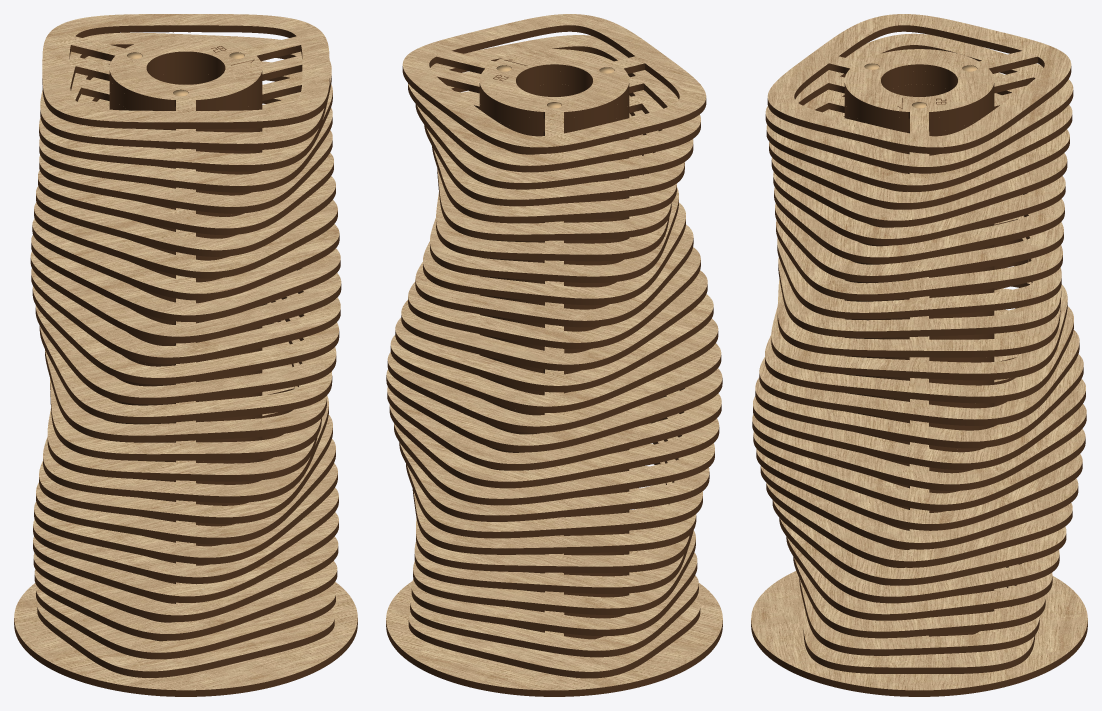
File: morph.glb
3 views of the same model, side by side, from view 1: azimuth 30°, elevation 25°; view 2: azimuth 150°, elevation 25°; view 3: azimuth 270°, elevation 25° (orthographic). The views are drawn at different scales.
Parts seen in each view (by area): view 1: body27, body82, body26, body25, body16, body15, body17, body18, body14, body19, body13, body20 (+19 smaller); view 2: body27, body82, body26, body14, body13, body12, body15, body11, body16, body10, body9, body17 (+19 smaller); view 3: body27, body82, body26, body12, body11, body13, body25, body10, body14, body9, body8, body15 (+19 smaller).
Boxes of the visible parts, x1=… form: body27: x1=42, y1=14, x2=329, y2=128; body82: x1=14, y1=582, x2=357, y2=696; body26: x1=40, y1=32, x2=331, y2=150; body25: x1=39, y1=56, x2=332, y2=171; body16: x1=31, y1=268, x2=340, y2=364; body15: x1=32, y1=286, x2=339, y2=384; body17: x1=30, y1=251, x2=341, y2=343; body18: x1=31, y1=235, x2=340, y2=321; body14: x1=35, y1=298, x2=336, y2=404; body19: x1=32, y1=218, x2=339, y2=300; body13: x1=39, y1=302, x2=332, y2=423; body20: x1=34, y1=200, x2=337, y2=278; body27: x1=402, y1=14, x2=706, y2=153; body82: x1=386, y1=581, x2=722, y2=696; body26: x1=408, y1=35, x2=700, y2=172; body14: x1=390, y1=311, x2=718, y2=412; body13: x1=387, y1=331, x2=721, y2=432; body12: x1=386, y1=352, x2=722, y2=452; body15: x1=395, y1=293, x2=713, y2=392; body11: x1=387, y1=367, x2=721, y2=470; body16: x1=401, y1=270, x2=707, y2=371; body10: x1=389, y1=390, x2=719, y2=488; body9: x1=394, y1=413, x2=714, y2=505; body17: x1=408, y1=247, x2=700, y2=349; body27: x1=767, y1=14, x2=1071, y2=153; body82: x1=751, y1=571, x2=1087, y2=696; body26: x1=765, y1=33, x2=1073, y2=173; body12: x1=755, y1=353, x2=1083, y2=448; body11: x1=753, y1=373, x2=1085, y2=469; body13: x1=759, y1=309, x2=1079, y2=425; body25: x1=766, y1=72, x2=1072, y2=191; body10: x1=752, y1=392, x2=1086, y2=490; body14: x1=765, y1=288, x2=1073, y2=403; body9: x1=753, y1=425, x2=1085, y2=511; body8: x1=756, y1=448, x2=1082, y2=530; body15: x1=771, y1=267, x2=1067, y2=380.
Size of the model in its own units: 0.1394 by 0.2491 by 0.1394.
Materials: 4 (1 with a texture image).
